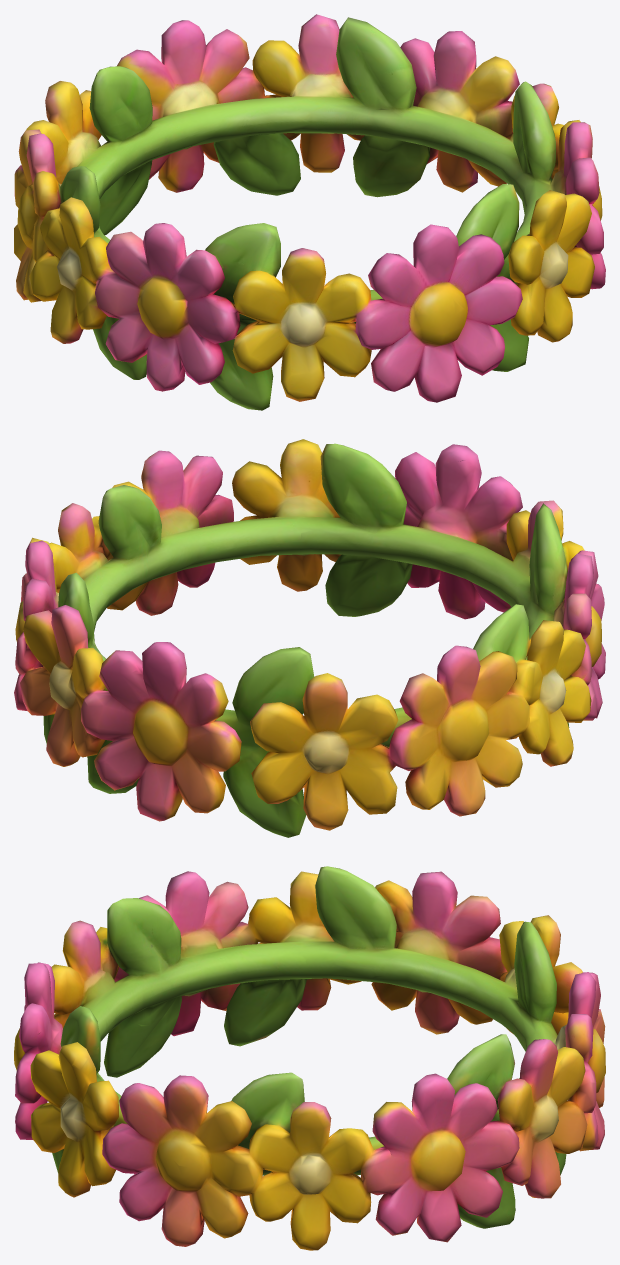
File: hat-flower.glb
The picture shows the model from 3 angles, top to bottom: view 1: azimuth 30°, elevation 25°; view 2: azimuth 150°, elevation 25°; view 3: azimuth 270°, elevation 25°; orthographic projection.
Visible parts, largest first — view 1: tripo_node_b0581df1-6a40-4051-91ab-d15a3725f8d3; view 2: tripo_node_b0581df1-6a40-4051-91ab-d15a3725f8d3; view 3: tripo_node_b0581df1-6a40-4051-91ab-d15a3725f8d3.
Part boxes in pixels (x1=…): tripo_node_b0581df1-6a40-4051-91ab-d15a3725f8d3: x1=14, y1=14, x2=605, y2=410; tripo_node_b0581df1-6a40-4051-91ab-d15a3725f8d3: x1=14, y1=439, x2=605, y2=837; tripo_node_b0581df1-6a40-4051-91ab-d15a3725f8d3: x1=14, y1=866, x2=605, y2=1250.
Bounding box in the file's own units: 1 × 0.3408 × 0.9979.
Materials: 1 (1 with a texture image).
